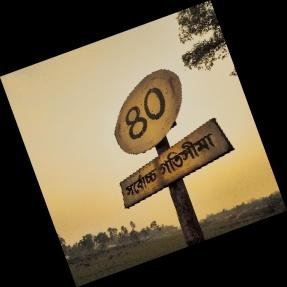Speed-limit: (116, 65, 232, 208)
